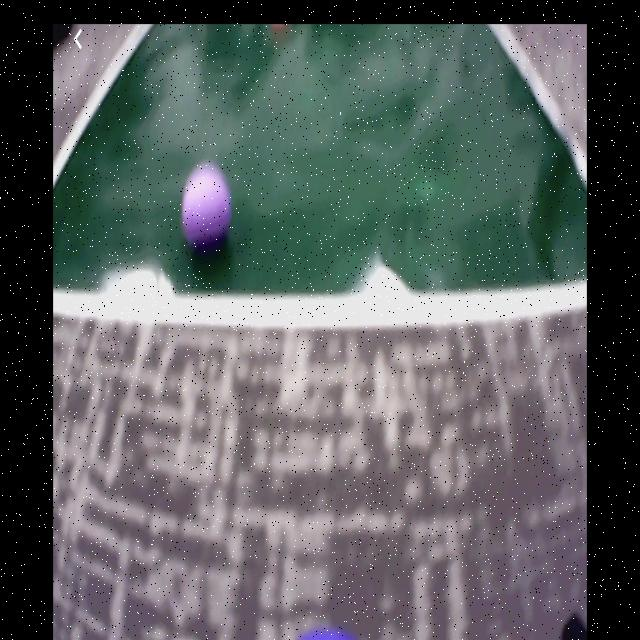ball: (184, 163, 232, 248), (299, 624, 356, 640)
